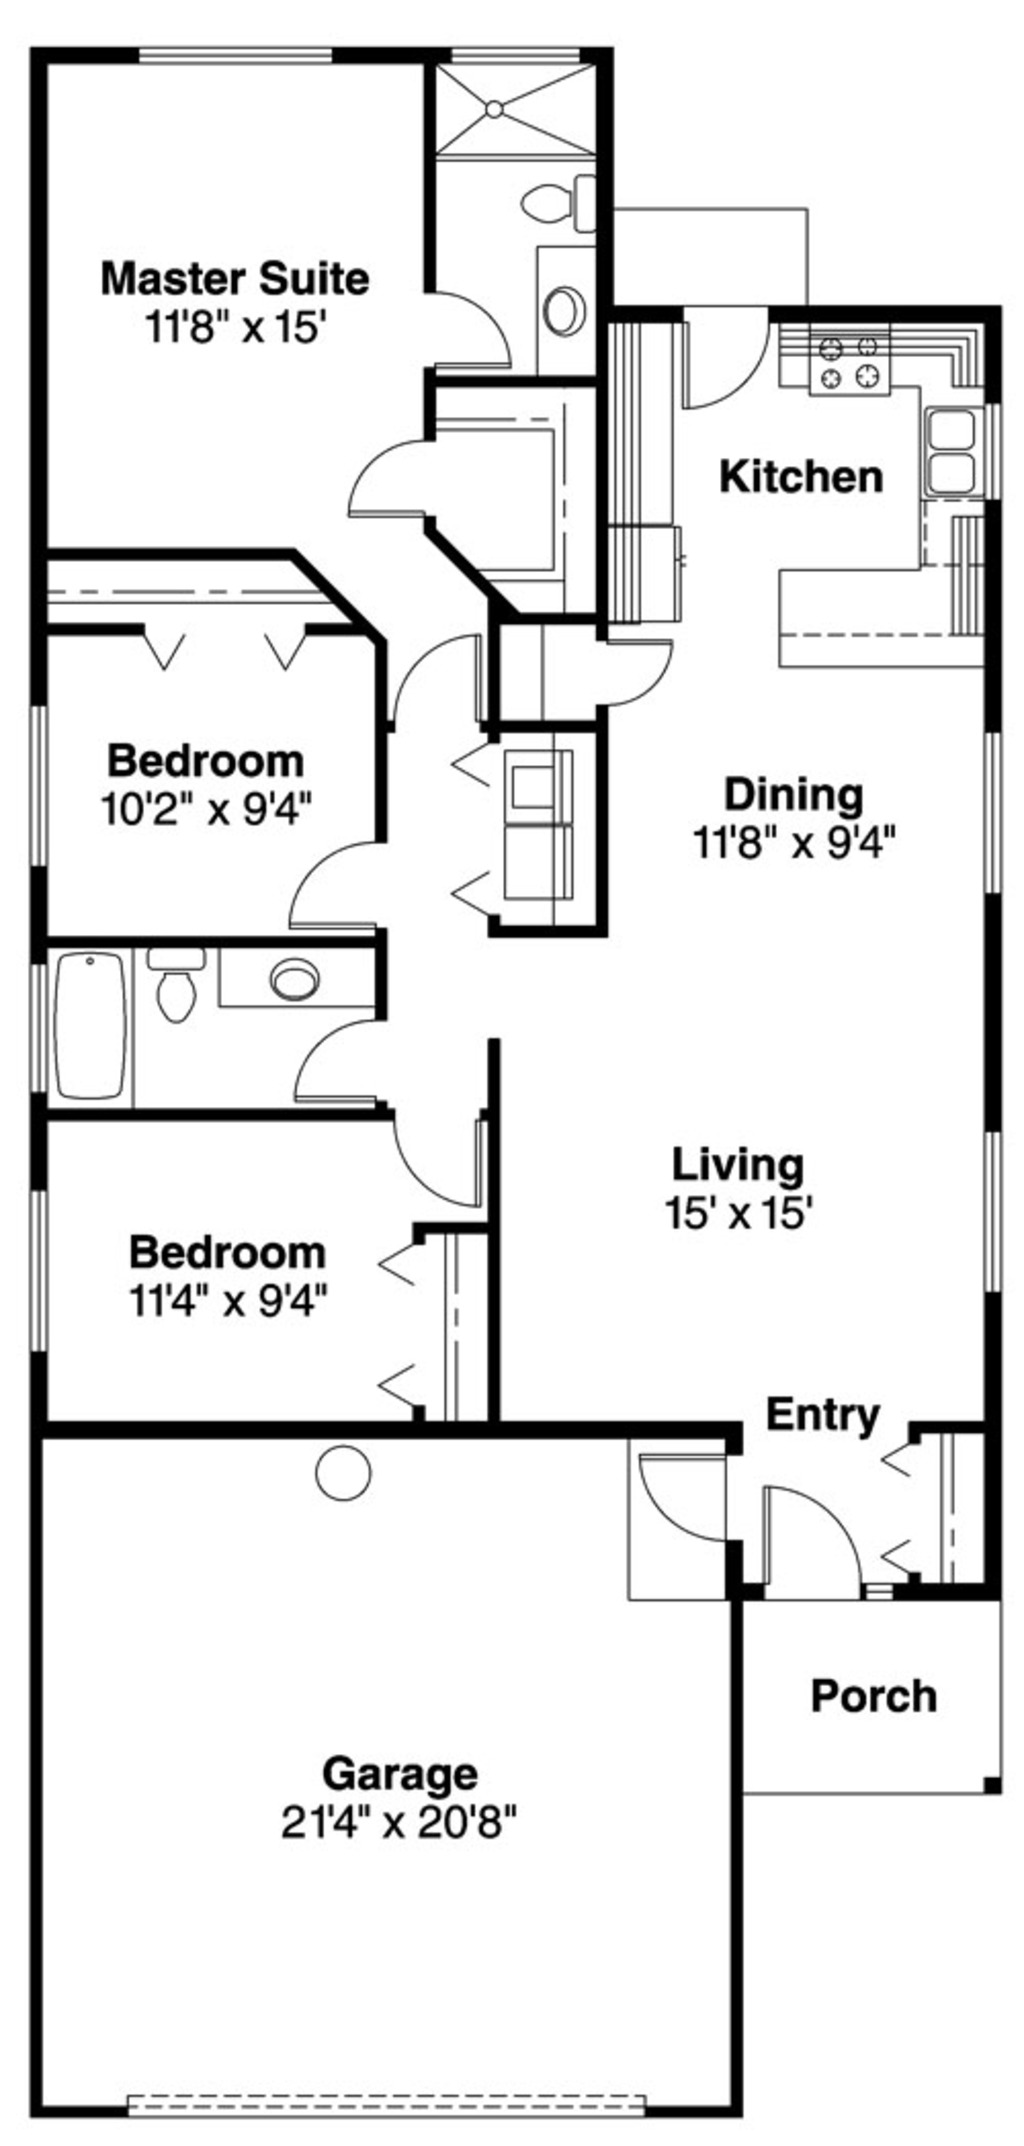door: (746, 1481, 871, 1618), (623, 1438, 746, 1551), (270, 827, 390, 933), (381, 1104, 490, 1215), (283, 1014, 390, 1118), (674, 294, 767, 411), (574, 620, 683, 717), (333, 437, 444, 524), (370, 634, 481, 720), (423, 274, 520, 367)
large_sink: (142, 917, 216, 1048), (493, 174, 616, 234)
small_sink: (220, 940, 386, 1010), (539, 255, 593, 374)
tub: (40, 931, 136, 1118)
twin_sink: (913, 394, 1024, 517)
window: (960, 714, 1016, 964), (5, 1188, 63, 1351), (23, 690, 63, 894), (980, 1137, 1006, 1311)
